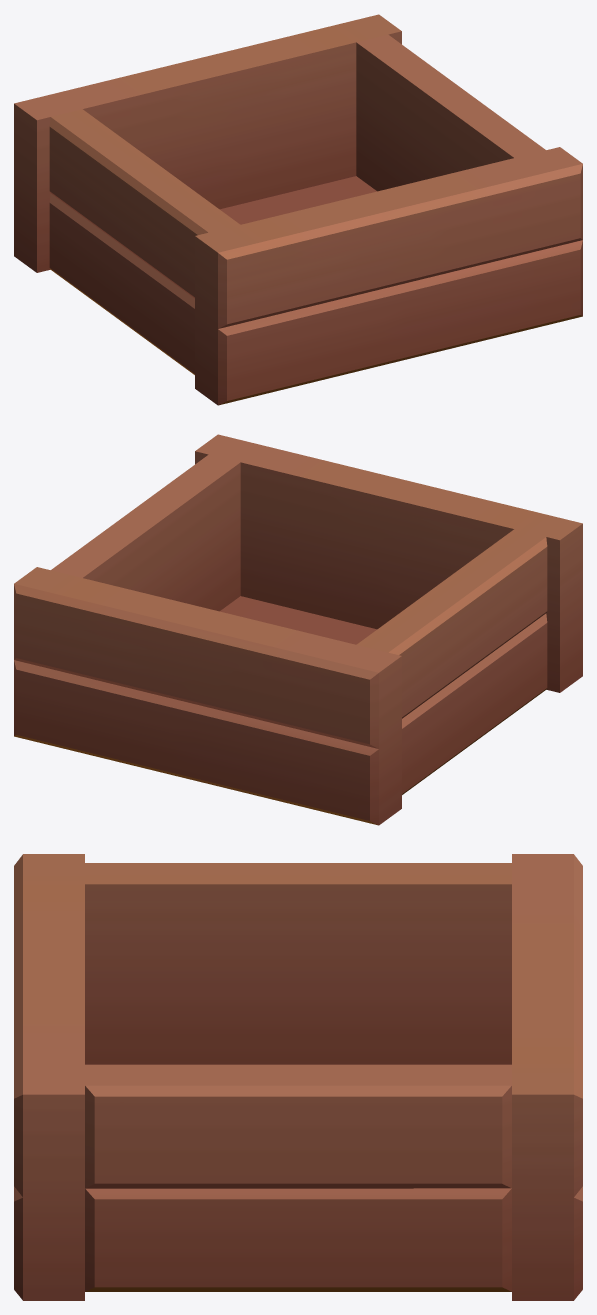
File: kkr.crate.glb
3 renders of one model, top to bottom at view 1: azimuth 30°, elevation 25°; view 2: azimuth 150°, elevation 25°; view 3: azimuth 270°, elevation 25°, orthographic. The views are drawn at different scales.
Parts seen in each view (by area): view 1: crate; view 2: crate; view 3: crate.
Part boxes in pixels (bbox=[...]): crate: bbox=[14, 14, 582, 405]; crate: bbox=[14, 434, 582, 825]; crate: bbox=[14, 854, 582, 1300].
Size of the model in its own units: 1.49 by 0.5959 by 1.49.
Materials: 1 (1 with a texture image).
